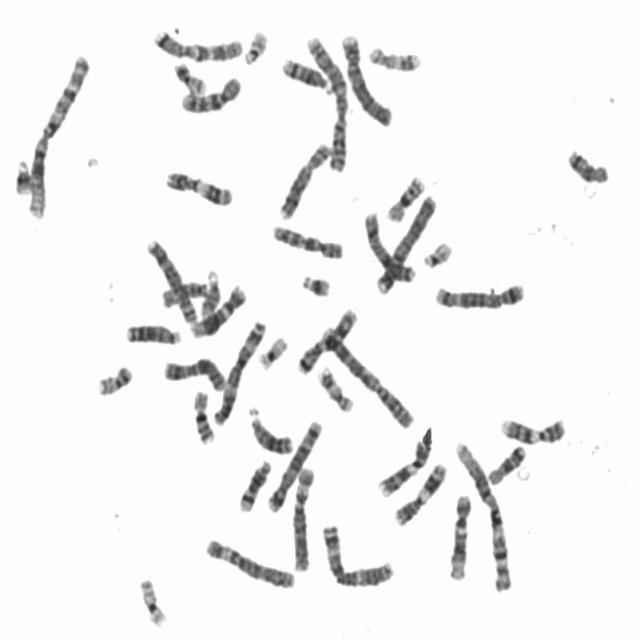A1: (22, 48, 92, 220), (452, 434, 514, 594)
A2: (316, 320, 417, 431), (302, 27, 351, 173)
A3: (210, 313, 269, 426), (317, 517, 397, 589)
B4: (371, 187, 439, 296), (336, 26, 396, 128)
B5: (263, 413, 324, 513), (430, 275, 528, 311)
C10: (267, 217, 347, 261), (177, 69, 244, 114)
C11: (389, 456, 449, 528), (160, 164, 236, 208)
C12: (186, 278, 249, 339), (443, 487, 474, 582)
C6: (201, 531, 298, 592), (288, 460, 317, 574)
C7: (292, 301, 360, 376), (150, 22, 246, 63)
C8: (140, 232, 200, 325), (275, 136, 334, 221)
C9: (373, 432, 432, 498), (495, 409, 569, 446)
D13: (244, 402, 295, 456), (121, 316, 184, 347)
D14: (277, 50, 334, 95), (234, 453, 274, 513)
D15: (156, 275, 212, 309), (196, 264, 223, 316)
E16: (382, 168, 427, 223), (189, 383, 218, 445)
E17: (315, 359, 356, 414), (364, 39, 424, 73)
E18: (484, 438, 528, 486), (563, 142, 612, 185)
F19: (135, 571, 169, 629), (253, 329, 290, 372)
F20: (93, 357, 135, 397), (168, 55, 208, 96)
G21: (297, 266, 334, 298), (10, 152, 34, 196)
G22: (418, 233, 455, 270), (239, 23, 270, 66)
X: (359, 205, 418, 284), (158, 351, 229, 391)
